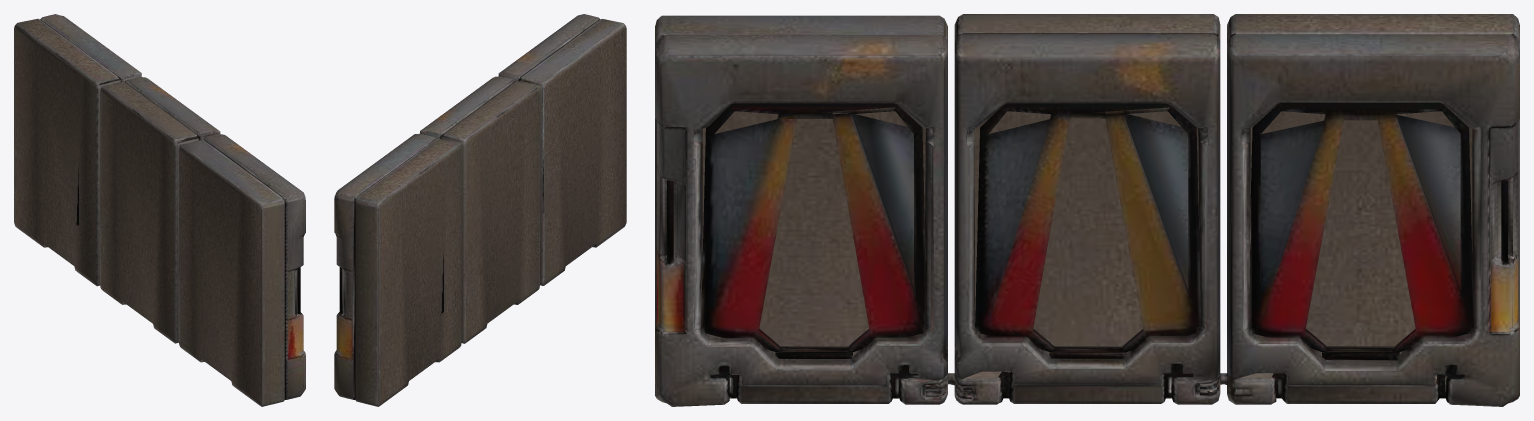
Rendered from prop_wall_panel.glb.
3 views of the same model, side by side, from view 1: azimuth 30°, elevation 25°; view 2: azimuth 150°, elevation 25°; view 3: azimuth 270°, elevation 25° (orthographic). The views are drawn at different scales.
Parts seen in each view (by area): view 1: tripo_node_4e7480b2-5fe0-49f5-ab5a-dcb8ee09b51c; view 2: tripo_node_4e7480b2-5fe0-49f5-ab5a-dcb8ee09b51c; view 3: tripo_node_4e7480b2-5fe0-49f5-ab5a-dcb8ee09b51c.
Part boxes in pixels (x1,y1,x2,y2): tripo_node_4e7480b2-5fe0-49f5-ab5a-dcb8ee09b51c: [14, 14, 305, 406]; tripo_node_4e7480b2-5fe0-49f5-ab5a-dcb8ee09b51c: [334, 14, 626, 406]; tripo_node_4e7480b2-5fe0-49f5-ab5a-dcb8ee09b51c: [655, 14, 1519, 406].
Bounding box in the file's own units: 0.1074 × 0.4551 × 0.998.
1 material, 1 textured.
